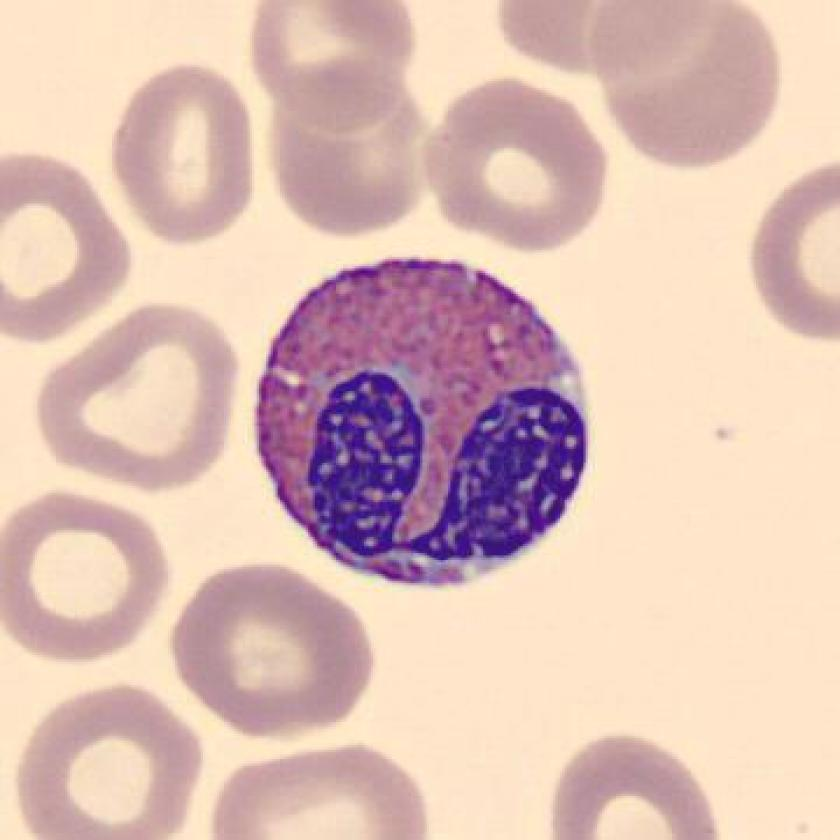eosinophil: (246, 247, 603, 601)
